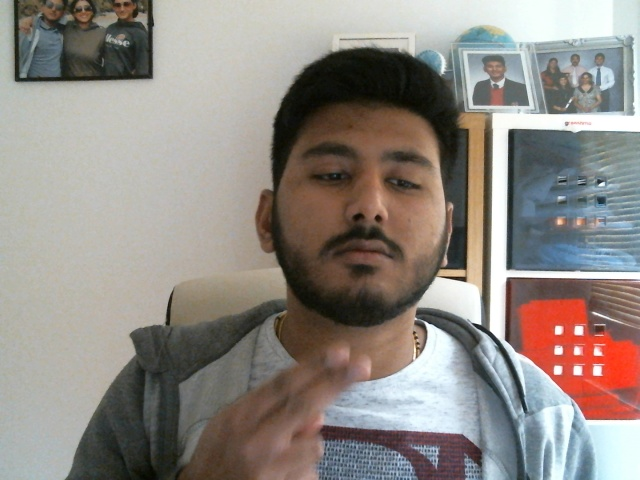afternoon: (208, 341, 369, 480)
